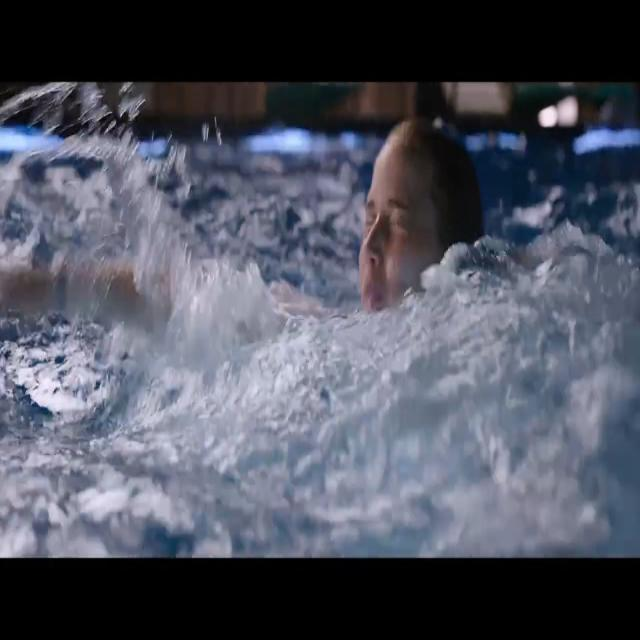Drowning: (335, 113, 492, 341)
